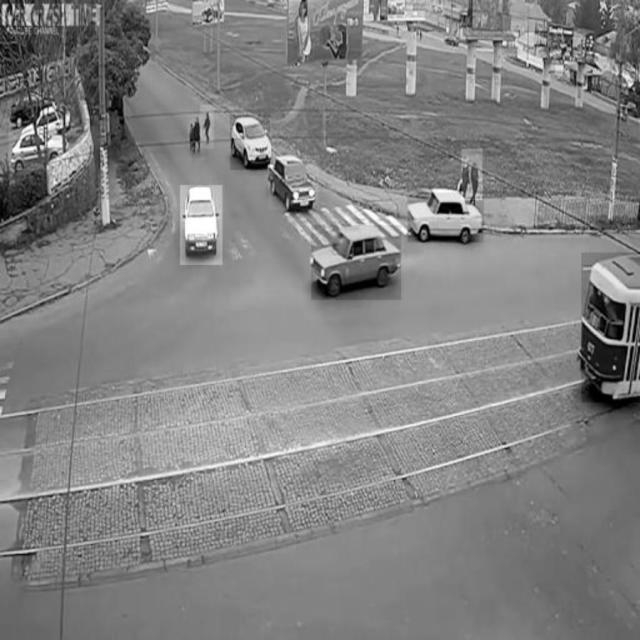person: (462, 149, 482, 200), (188, 114, 205, 160), (200, 105, 214, 149)
vehicle: (581, 253, 640, 402), (312, 225, 402, 299), (408, 193, 484, 243), (181, 185, 223, 265), (269, 155, 319, 211), (9, 125, 70, 170), (231, 114, 271, 170)
